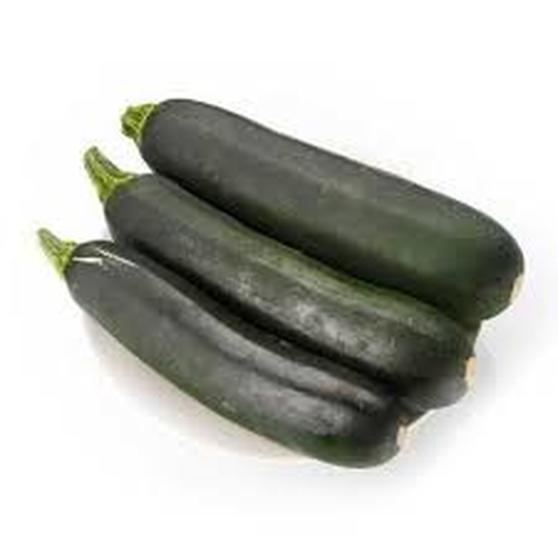zucchini: (153, 69, 532, 318)
